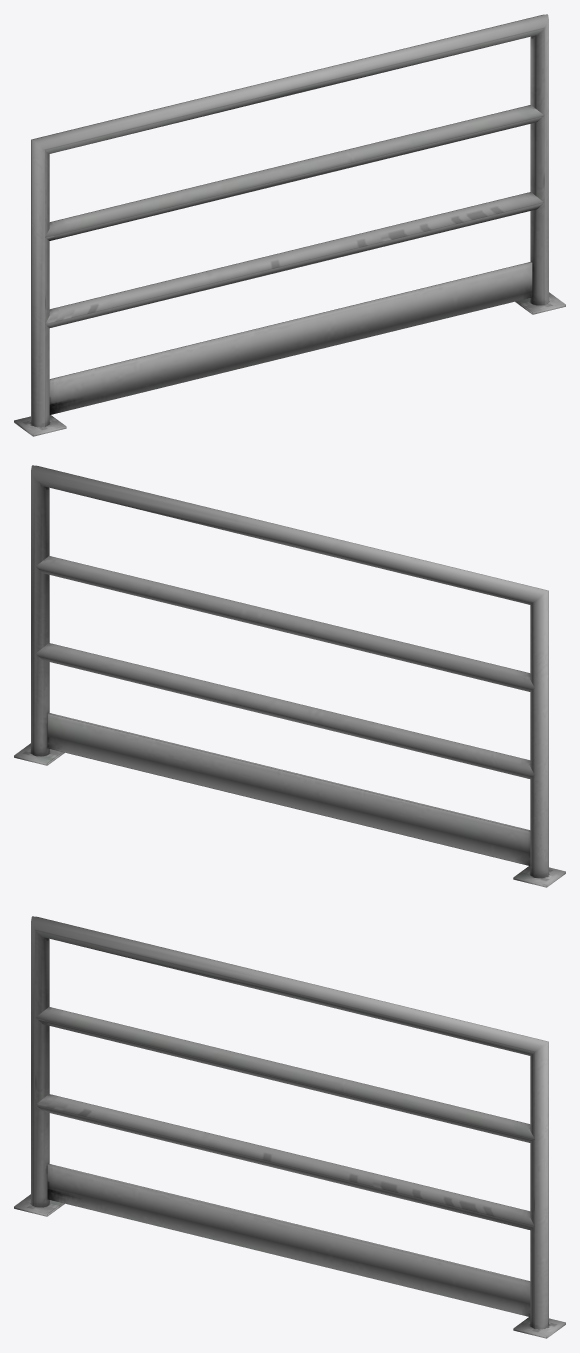
The picture shows the model from 3 angles, top to bottom: view 1: azimuth 30°, elevation 25°; view 2: azimuth 150°, elevation 25°; view 3: azimuth 330°, elevation 25°; orthographic projection.
Visible parts, largest first — view 1: body0_model0_lod0_mesh0; view 2: body0_model0_lod0_mesh0; view 3: body0_model0_lod0_mesh0.
Boxes of the visible parts, box(x1,y1,x2,y2) form: body0_model0_lod0_mesh0: box(14, 14, 565, 436); body0_model0_lod0_mesh0: box(14, 465, 565, 887); body0_model0_lod0_mesh0: box(14, 916, 565, 1338).
Size of the model in its own units: 64 by 33 by 4.
1 material, 1 textured.
